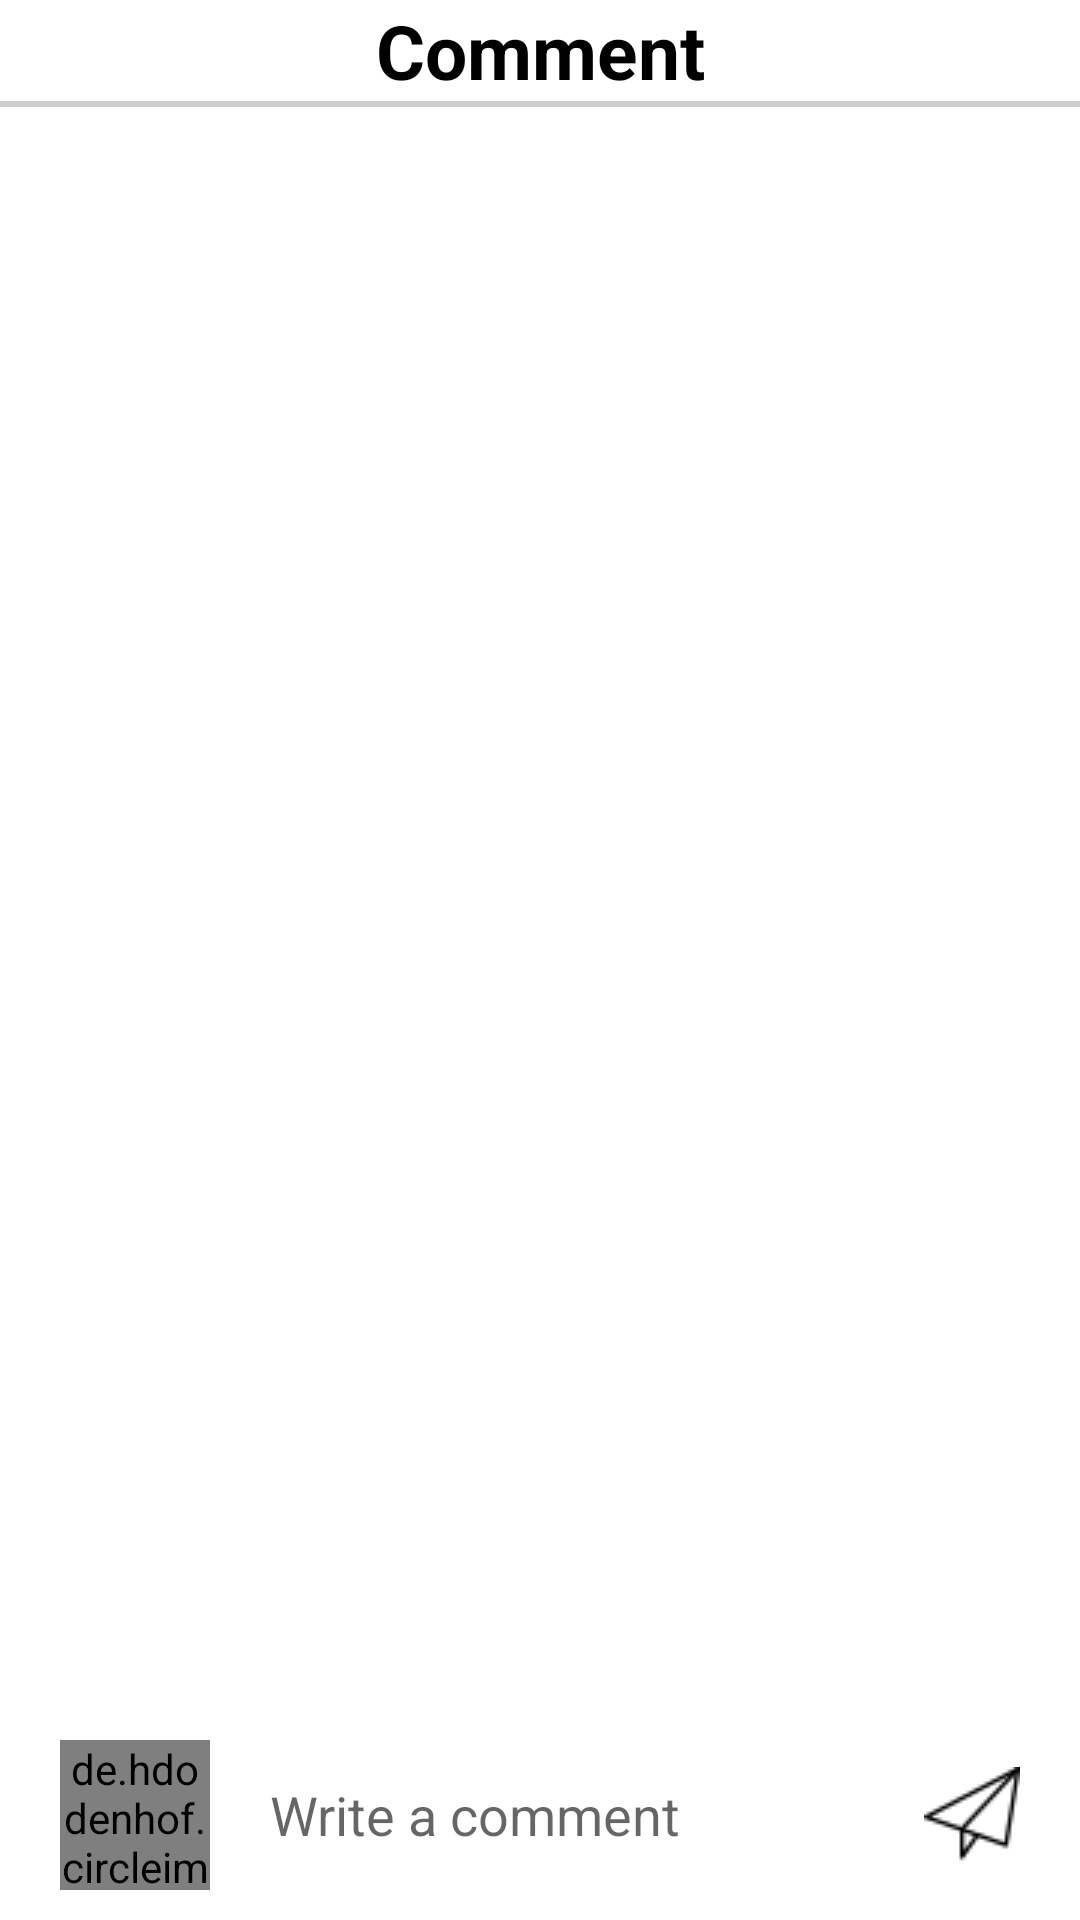

Icons on this 1080px×1920px Android screen, each with the point to tap as point (x, y):
post: point (972, 1814)
